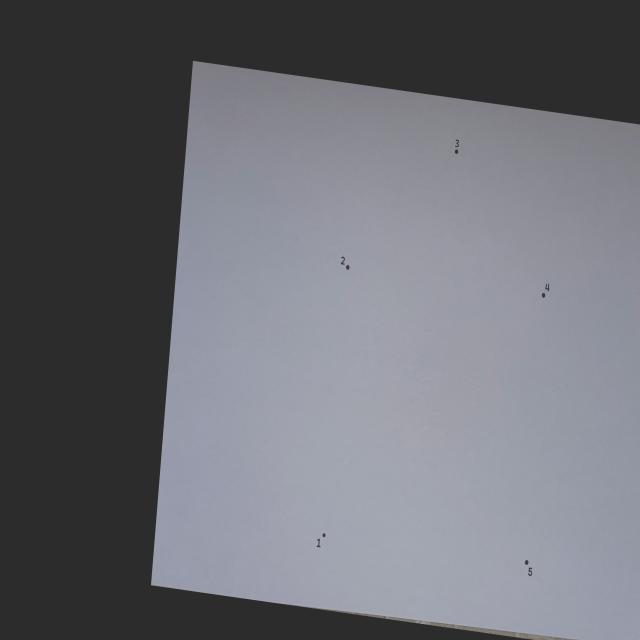Dot: (322, 533, 326, 538), (524, 560, 528, 565), (346, 265, 350, 270), (455, 149, 458, 154), (542, 293, 545, 298)
DotNumber: (316, 533, 326, 548), (340, 256, 350, 271), (541, 283, 550, 298), (524, 560, 532, 576), (455, 139, 459, 154)
Number: (316, 538, 321, 548), (528, 567, 533, 576), (545, 283, 550, 292), (341, 256, 345, 265), (455, 140, 459, 148)
